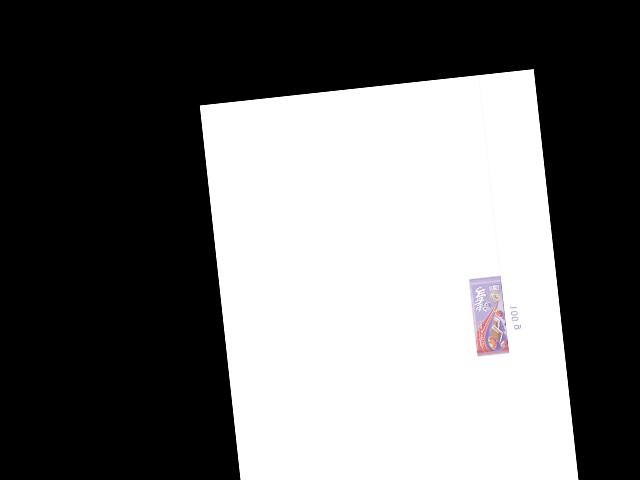chocolate: (468, 275, 513, 357)
